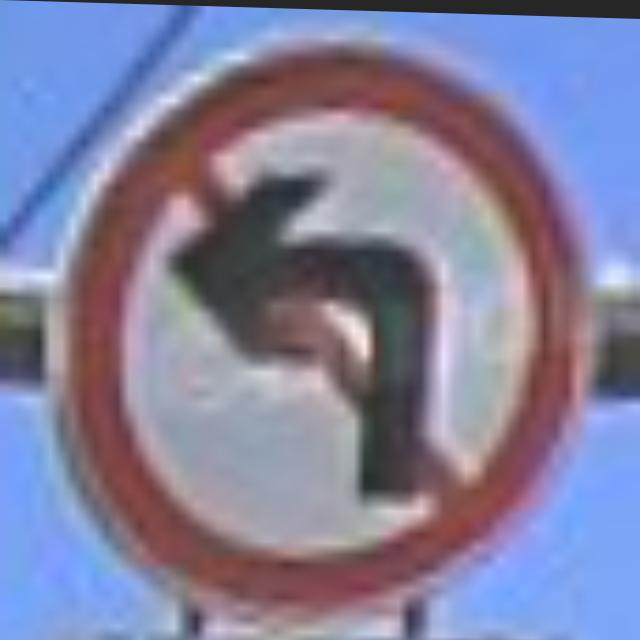not_turn_left: (63, 7, 592, 608)
